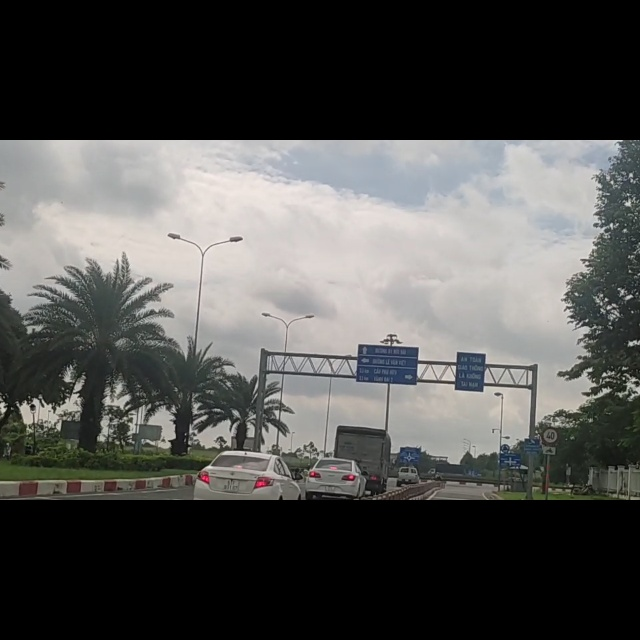bien_chi_dan: (541, 512, 558, 540), (541, 540, 556, 559)
